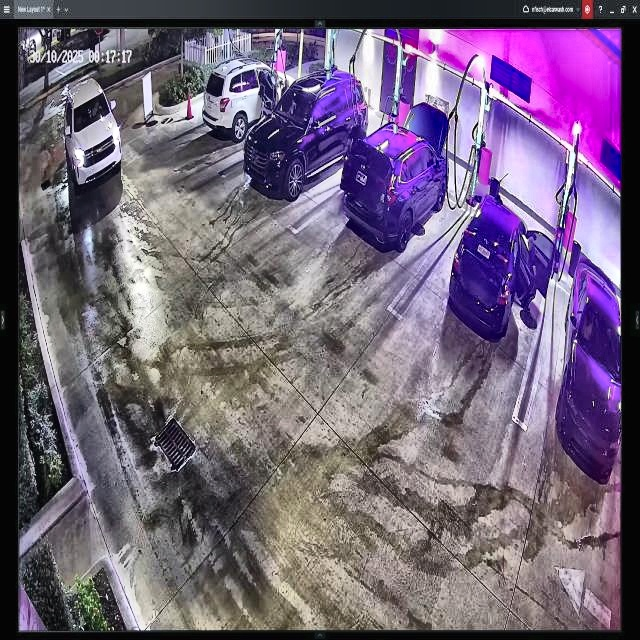Car: (242, 70, 366, 198), (451, 199, 558, 343), (347, 102, 447, 245)
